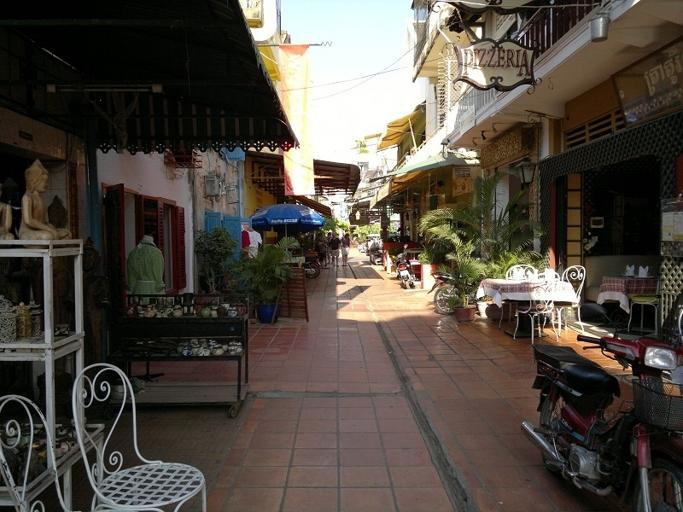non-vehicle: (519, 303, 682, 511), (426, 271, 484, 315), (387, 242, 415, 289), (302, 256, 320, 279)
